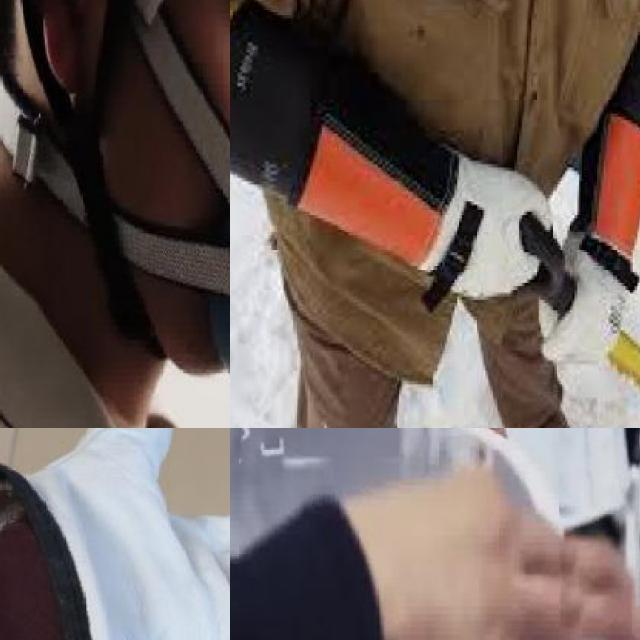apron: (230, 13, 559, 318), (0, 428, 230, 640), (545, 120, 640, 369)
